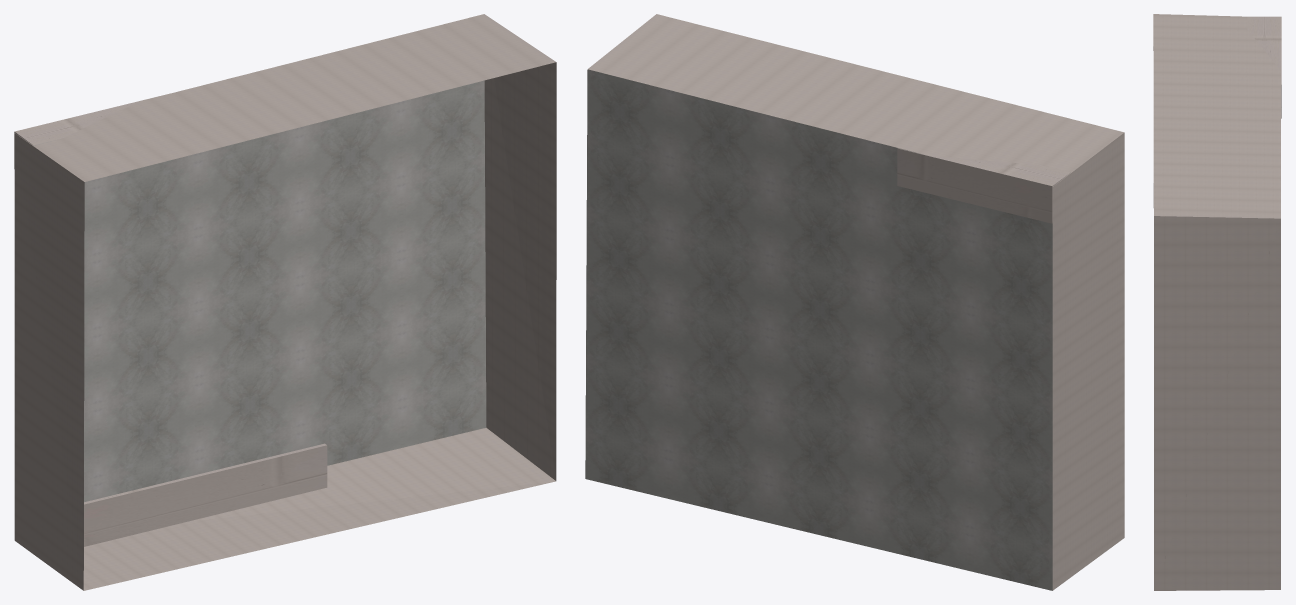
Rendered from rm3038_pt_cloud_nomat.obj.
3 views of the same model, side by side, from view 1: azimuth 30°, elevation 25°; view 2: azimuth 150°, elevation 25°; view 3: azimuth 270°, elevation 25° (orthographic). The views are drawn at different scales.
Parts seen in each view (by area): view 1: Plane; view 2: Plane; view 3: Plane.
Part boxes in pixels (bbox=[...]): Plane: bbox=[14, 14, 556, 590]; Plane: bbox=[585, 14, 1124, 590]; Plane: bbox=[1153, 14, 1281, 590].
Bounding box in the file's own units: 10.25 × 8.67 × 2.69.
Materials: 3 (2 with a texture image).
